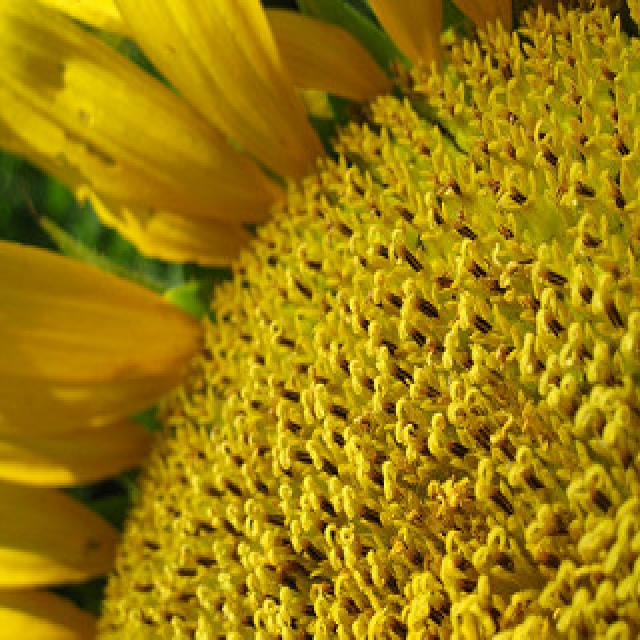sunflower: (7, 11, 640, 611)
